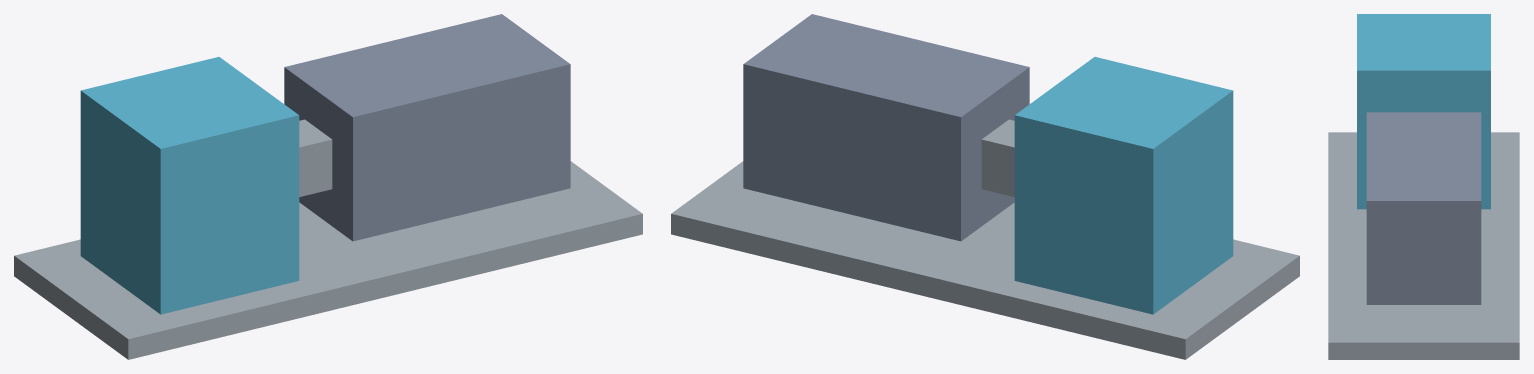
The picture shows the model from 3 angles, left to right: view 1: azimuth 30°, elevation 25°; view 2: azimuth 150°, elevation 25°; view 3: azimuth 270°, elevation 25°; orthographic projection. The views are drawn at different scales.
Visible parts, largest first — view 1: Pump, Motor, Base, Coupling; view 2: Pump, Motor, Base, Coupling; view 3: Base, Motor, Pump.
Part boxes in pixels (x1,y1,x2,y2): Pump: (80,57,299,314); Motor: (284,14,570,241); Base: (14,161,642,359); Coupling: (299,119,332,196); Pump: (1014,57,1233,314); Motor: (743,14,1029,241); Base: (671,161,1299,359); Coupling: (981,119,1014,196); Base: (1328,132,1519,359); Motor: (1366,112,1481,304); Pump: (1357,14,1490,209).
Bounding box in the file's own units: 1.3 × 0.45 × 0.5.
